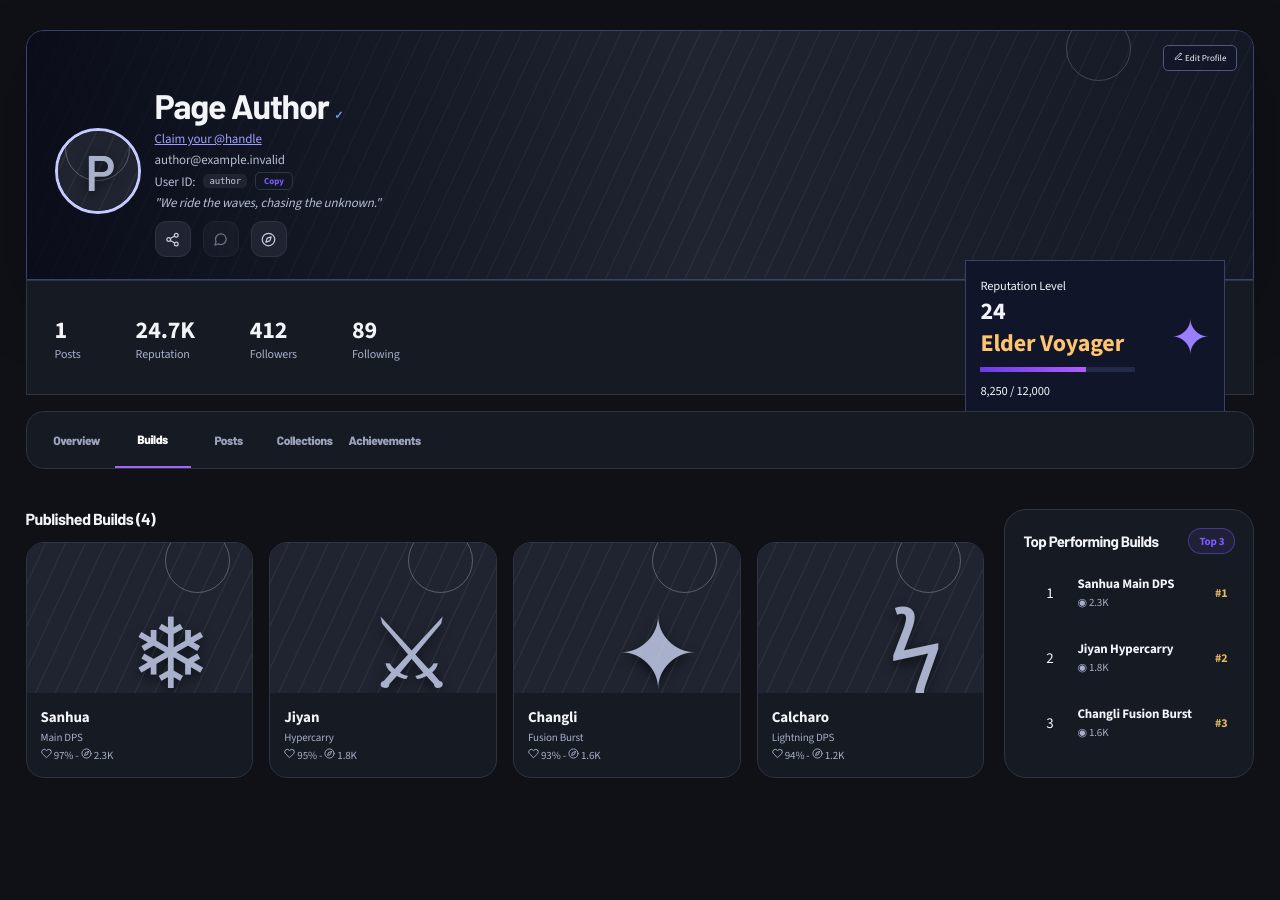
Test: personal post page rendering › renders personal posts in the actual profile Posts tab
Click the tab "Posts" at (229, 440), box [191, 412, 267, 468]
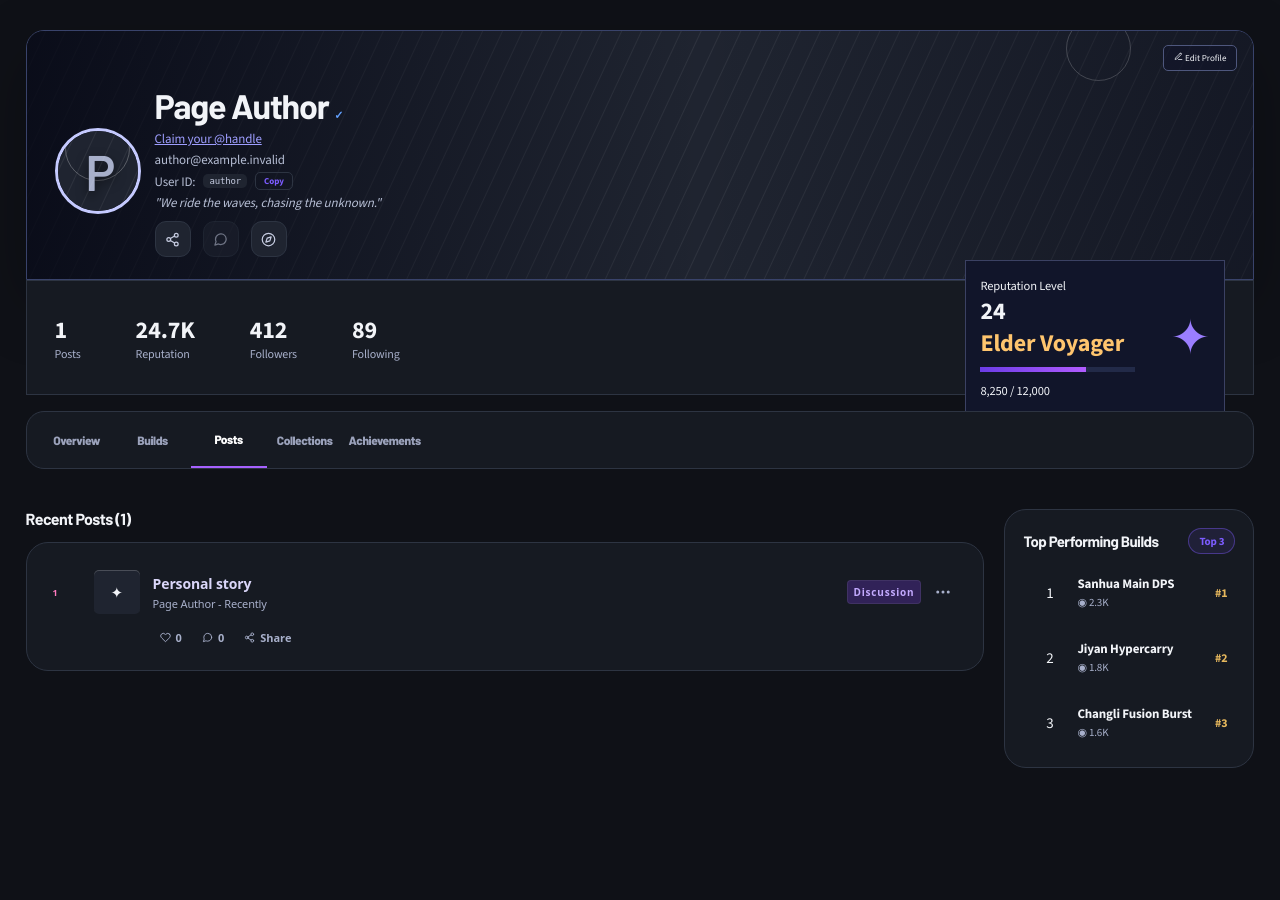
Expected: the text "Page Author - Recently" is shown, [153, 596, 267, 610]
